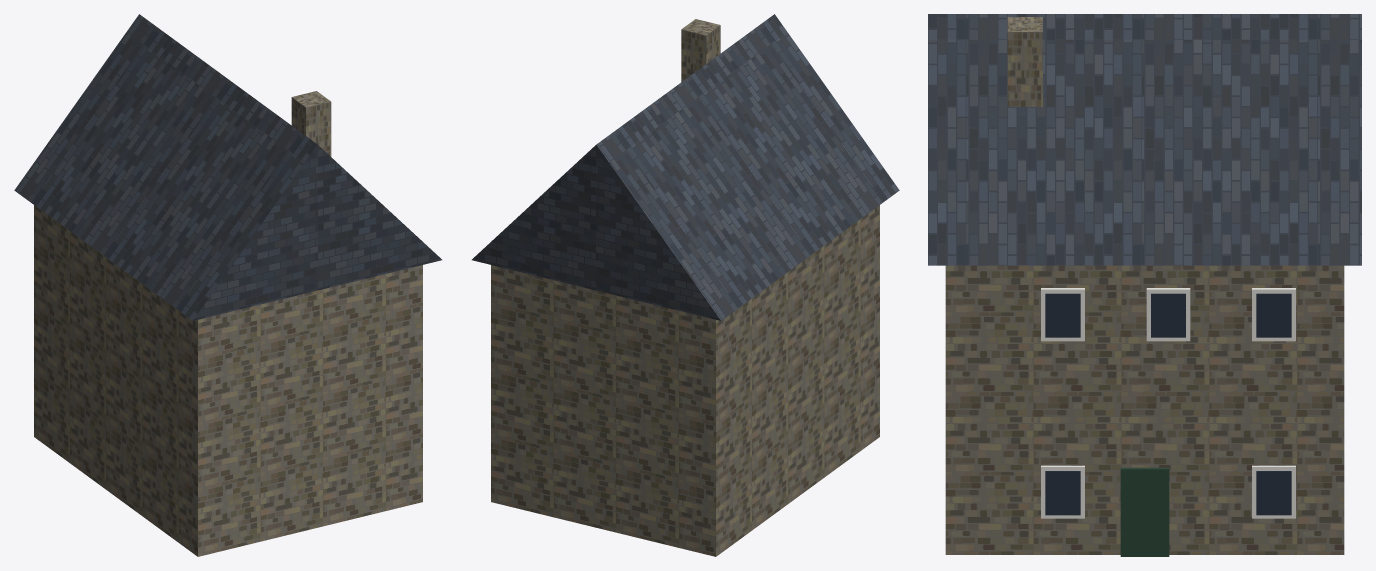
The model's file is ardennes_house_c.glb.
3 renders of one model, left to right at view 1: azimuth 30°, elevation 25°; view 2: azimuth 150°, elevation 25°; view 3: azimuth 270°, elevation 25°, orthographic. The views are drawn at different scales.
Parts seen in each view (by area): view 1: house; view 2: house; view 3: house.
Boxes of the visible parts, <box> form: house: <box>14,14,441,556</box>; house: <box>472,14,899,556</box>; house: <box>928,14,1361,556</box>.
Size of the model in its own units: 7.99 by 12.15 by 9.87.
Materials: 5 (2 with a texture image).
